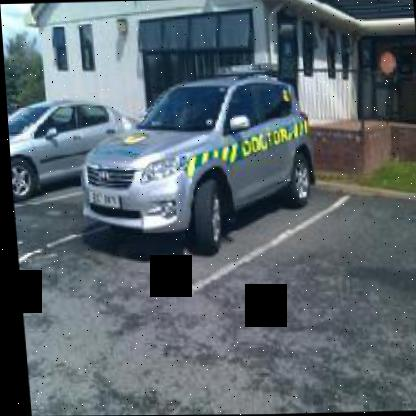emergency: (62, 56, 341, 279)
